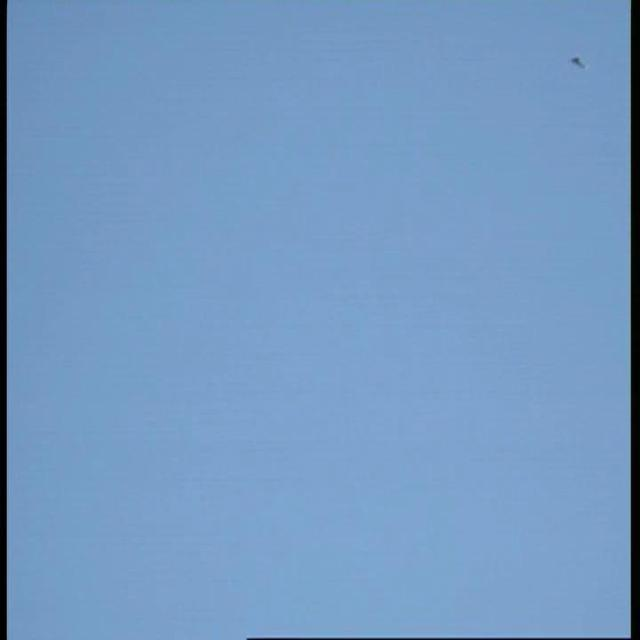drone: (567, 50, 590, 73)
